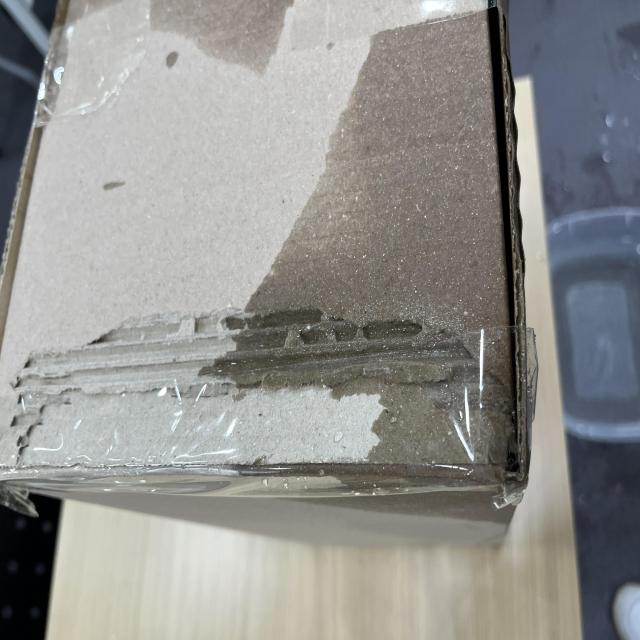wet: (98, 155, 621, 640)
